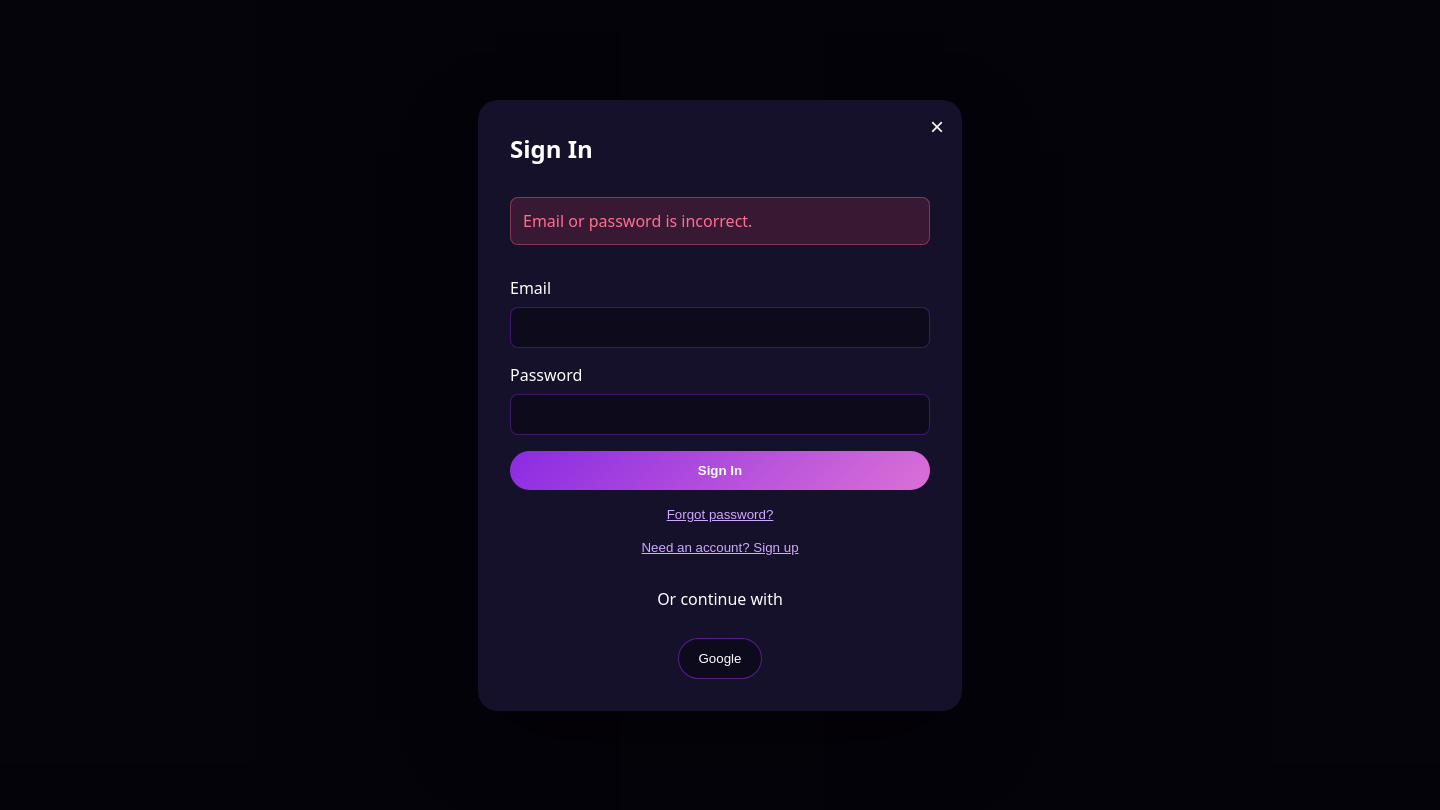
Test: AuthModal (unit) › maps user-not-found to reset copy in forgot-password mode
Click the button "Forgot password?".
click(720, 514)  # box 510,506 -> 930,522
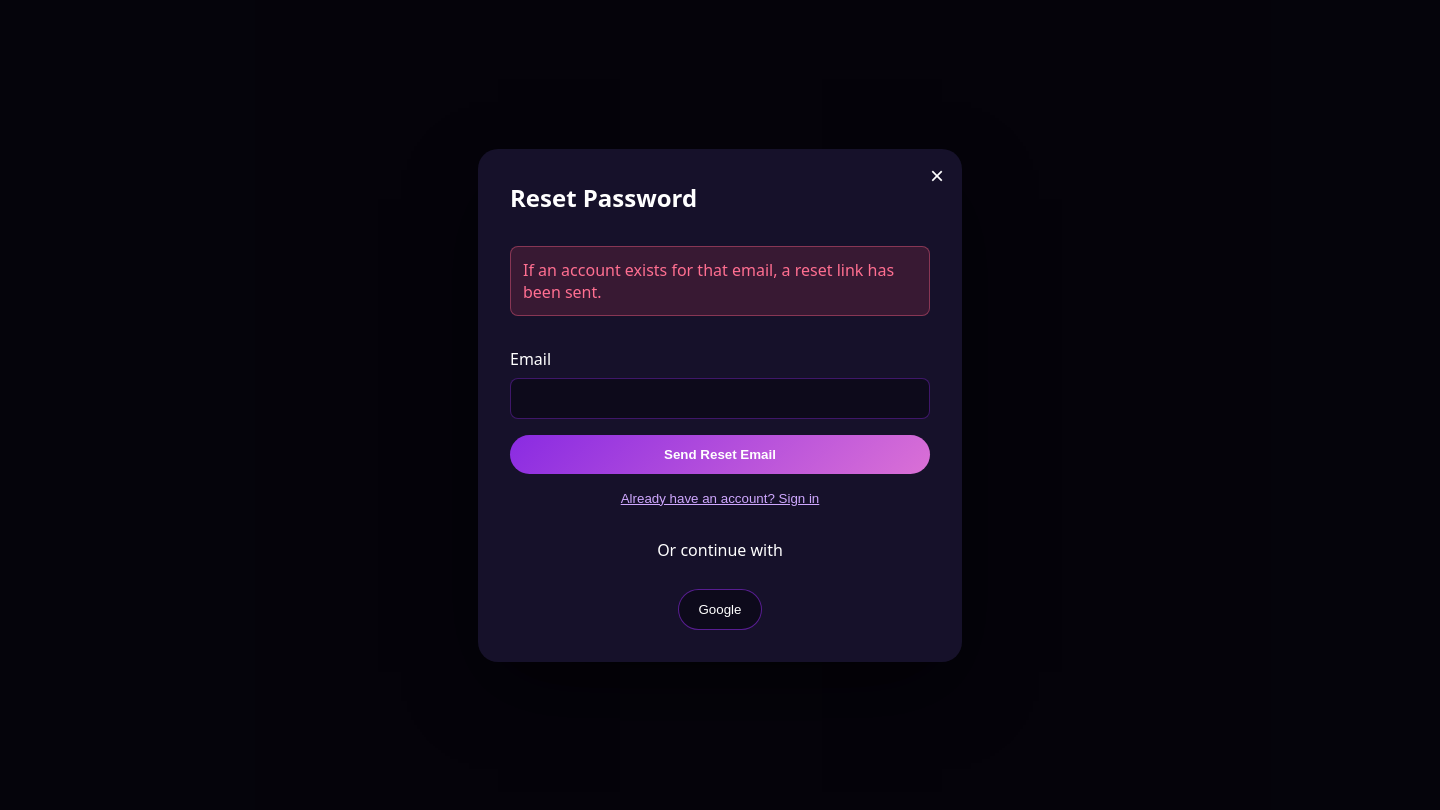
Check: the text "password is incorrect" is gone
